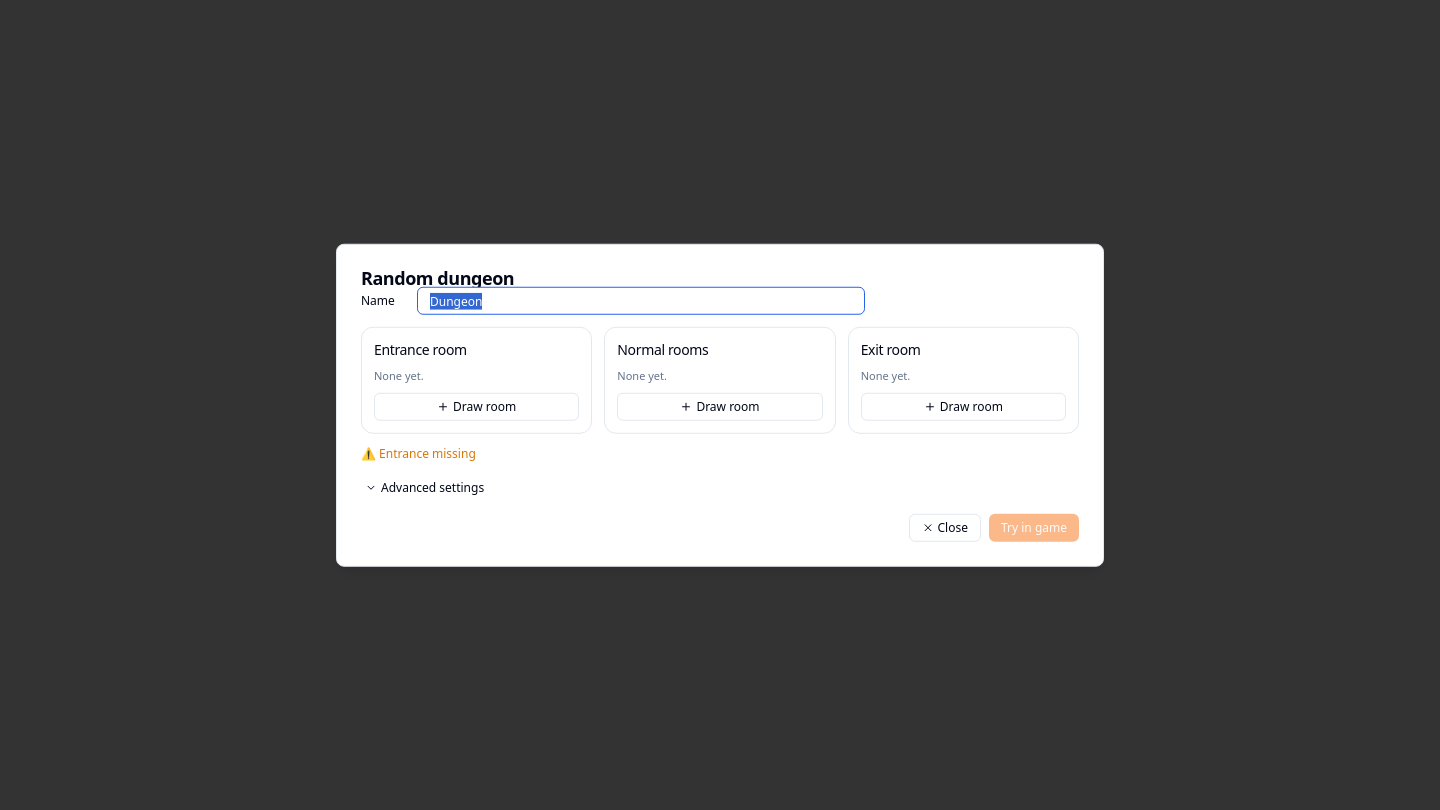
Scenario: RandomDungeonDialog › draws an entrance and an exit, then writes a ready rules file with doors closed
Expected: the text "⚠ Entrance missing" is shown, 361,444 -> 476,461
Step 1. Click the button with aria-label "Draw entrance room" → x=477, y=406, box 374,392 -> 579,420
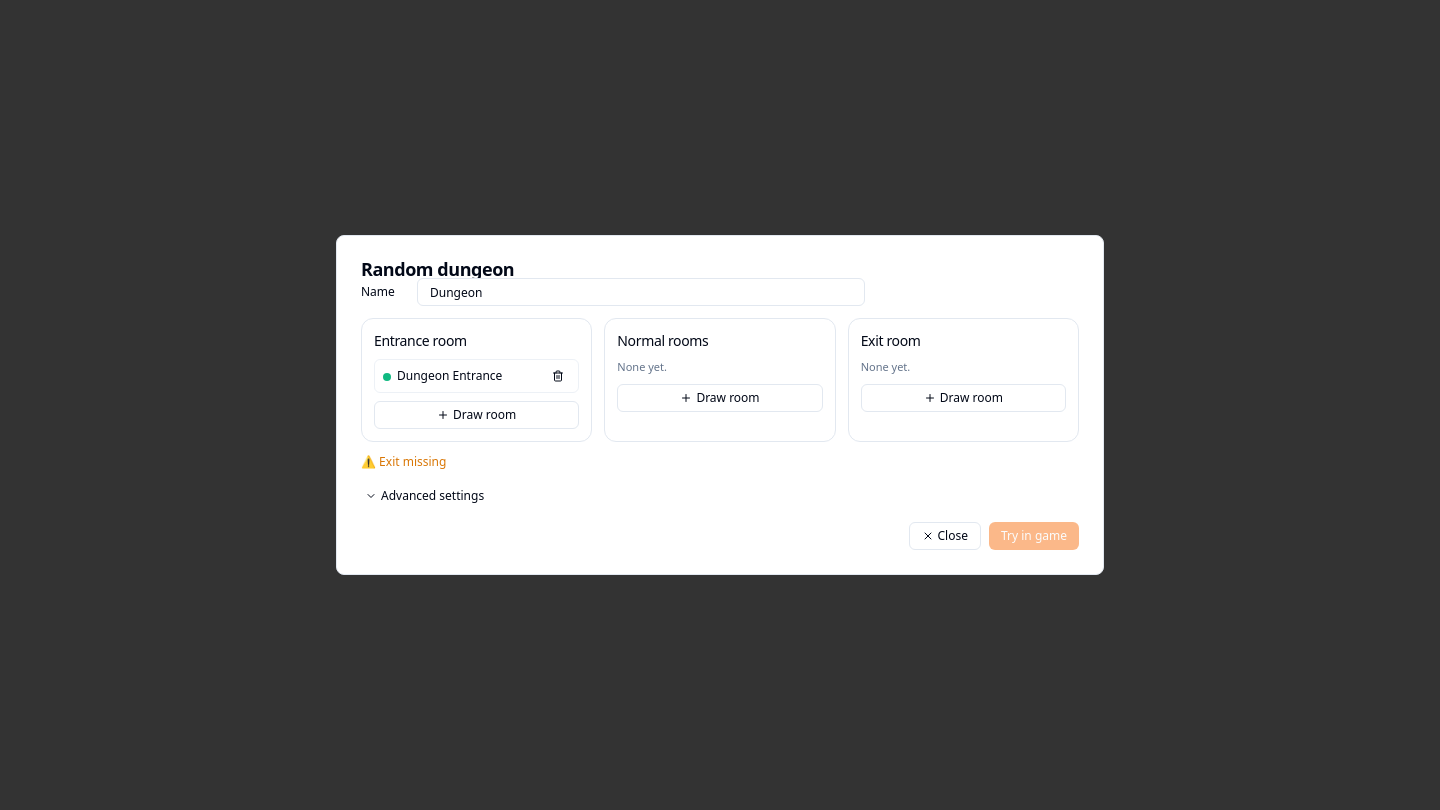
Expected: the text "⚠ Exit missing" is shown, 361,453 -> 446,470
Step 2. Click the button with aria-label "Draw exit room" → x=963, y=398, box 861,384 -> 1066,412
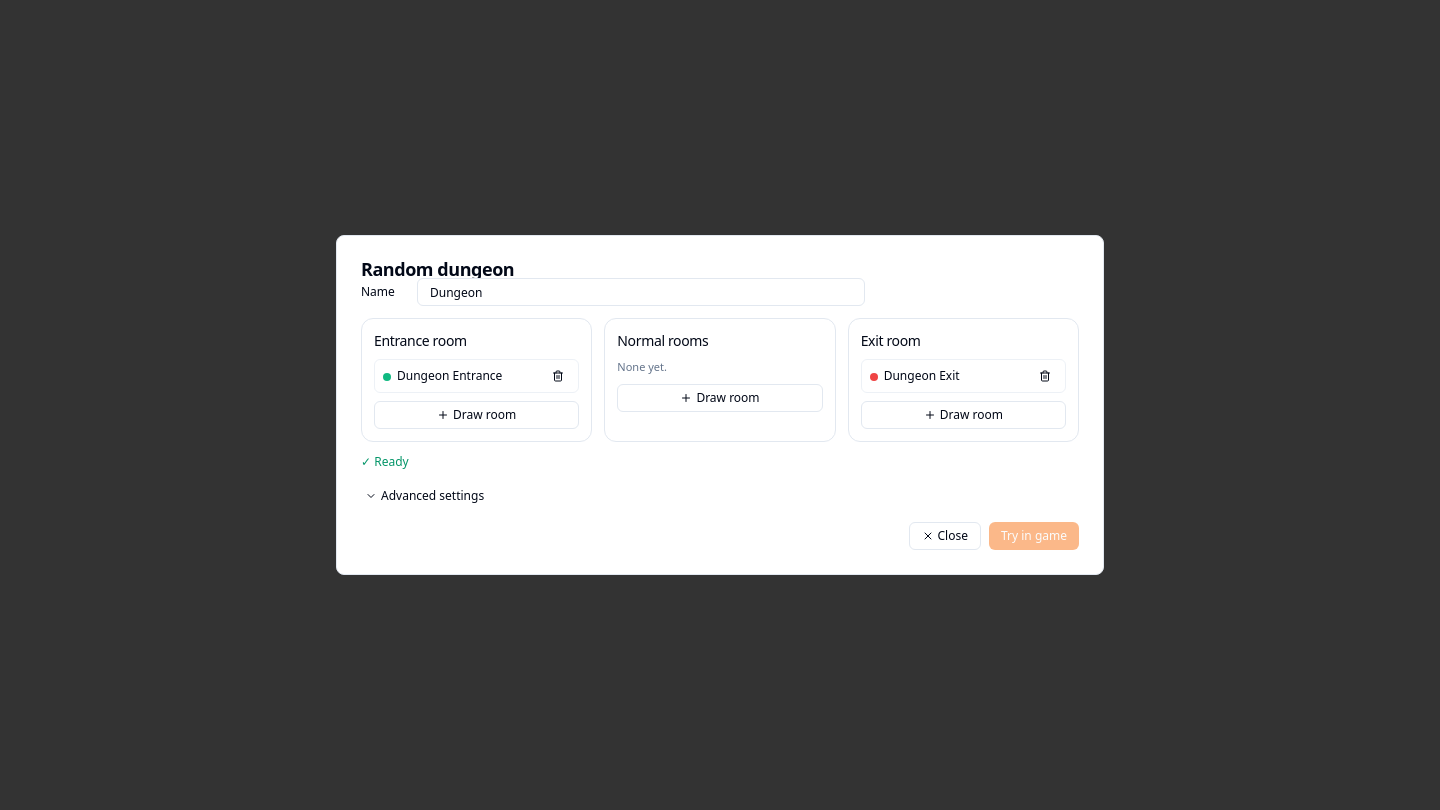
Expected: the button "Advanced settings" is shown, 361,482 -> 488,510
Expected: the text "✓ Ready" is shown, 361,453 -> 409,470
